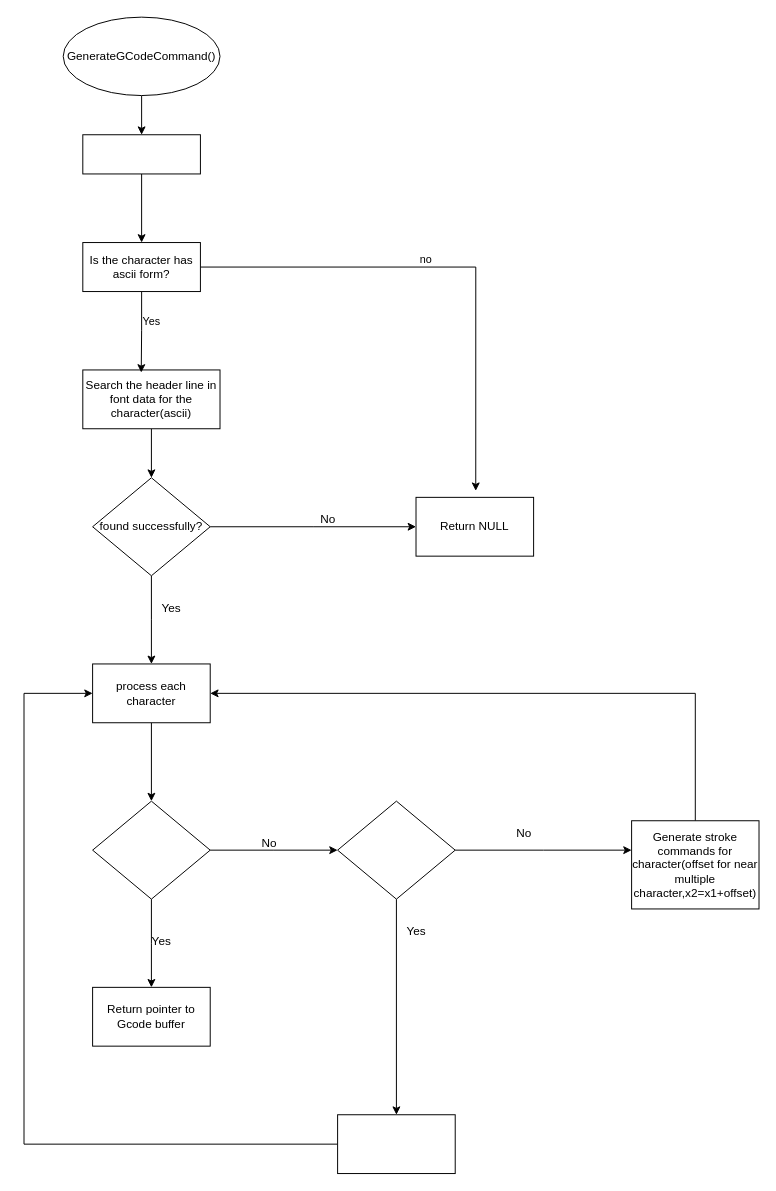
Image size: 776x1191. Some labels were removed from this diagram. Here are the shapes that lost their labels. From the top down, the centre of each, then its label:
the point at 141,154: initial cmmands
the point at 151,849: All characters processed?
the point at 396,849: Newline character(ASCII 10 and ASCII 13)?
the point at 396,1144: Adjust coordinates to change the line
